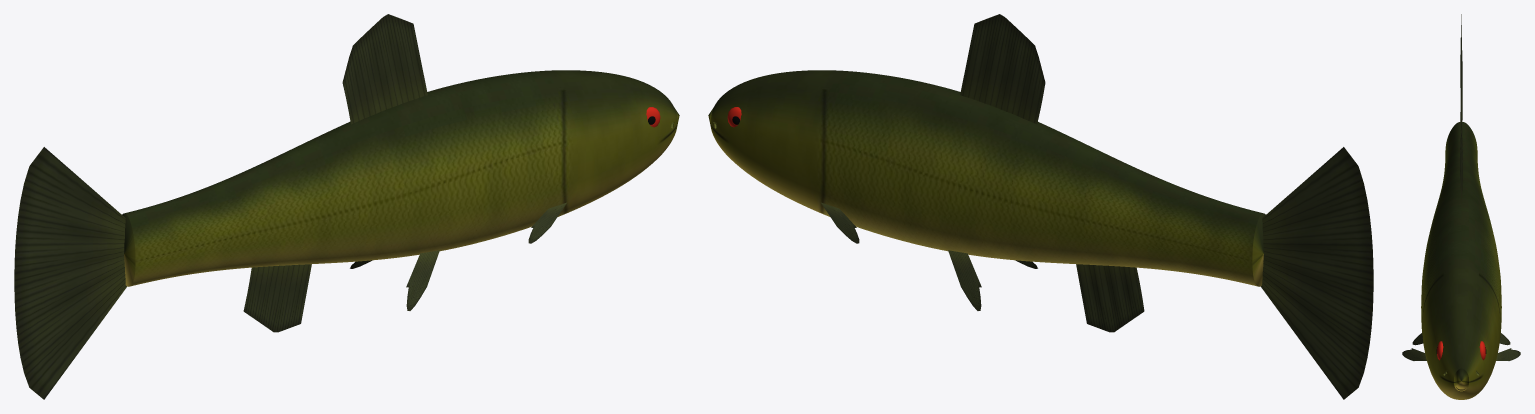
The model's file is fish_tench.gltf.
3 views of the same model, side by side, from view 1: azimuth 30°, elevation 25°; view 2: azimuth 150°, elevation 25°; view 3: azimuth 270°, elevation 25° (orthographic). The views are drawn at different scales.
Parts seen in each view (by area): view 1: fish_tench; view 2: fish_tench; view 3: fish_tench.
Part boxes in pixels (x1,y1,x2,y2): fish_tench: [14, 14, 679, 399]; fish_tench: [708, 14, 1373, 399]; fish_tench: [1402, 14, 1520, 399].
Bounding box in the file's own units: 0.3614 × 0.1568 × 0.0659.
7 materials, 4 textured.
